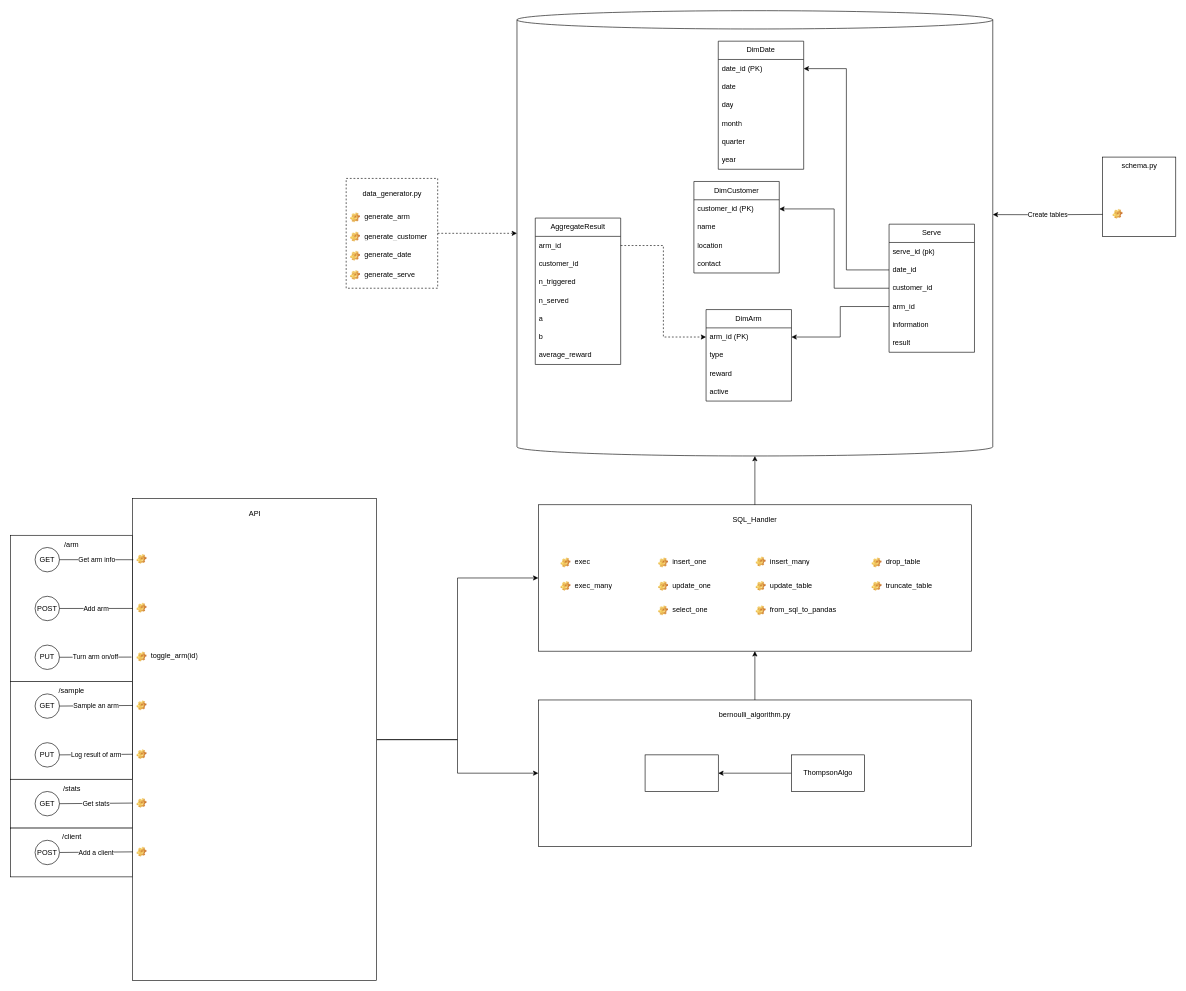
Some shapes in this 1186 by 991 pixel diagram are drawn without their labels. Each missing label, with the centre of its shape:
"add_arm(id, type)" goes at point (199, 608).
"add_client" goes at point (178, 852).
"create_ORM" goes at point (1138, 214).
"get_arm(id)" goes at point (190, 559).
"log_result" goes at point (178, 754).
"sample_arm" goes at point (178, 705).
"stats" goes at point (178, 803).
"ThompsonArm" goes at point (681, 772).
